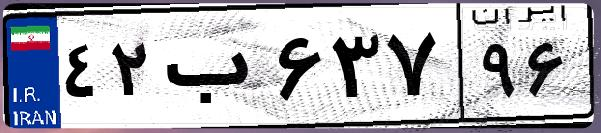2: (110, 28, 158, 98)
3: (330, 28, 385, 110)
4: (57, 26, 110, 100)
6: (270, 28, 330, 110), (525, 38, 570, 115)
7: (385, 28, 445, 110)
9: (475, 38, 525, 113)
ب: (158, 20, 270, 120)
